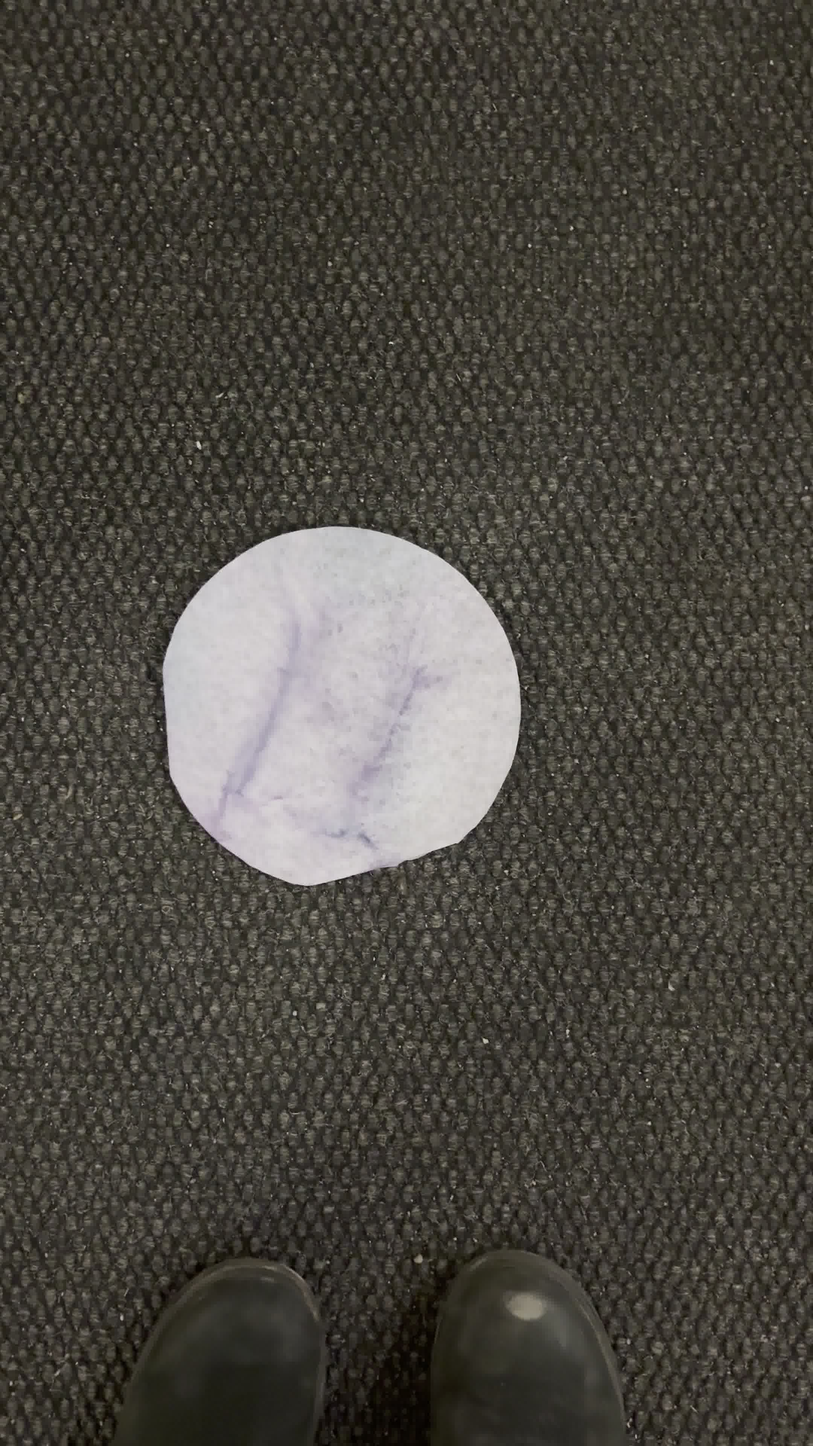Target: (162, 517, 522, 892)
